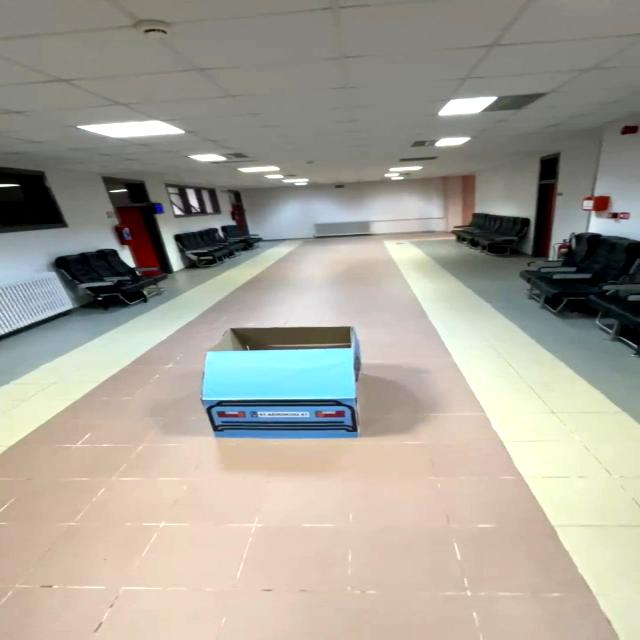blue_car: (178, 319, 383, 463)
